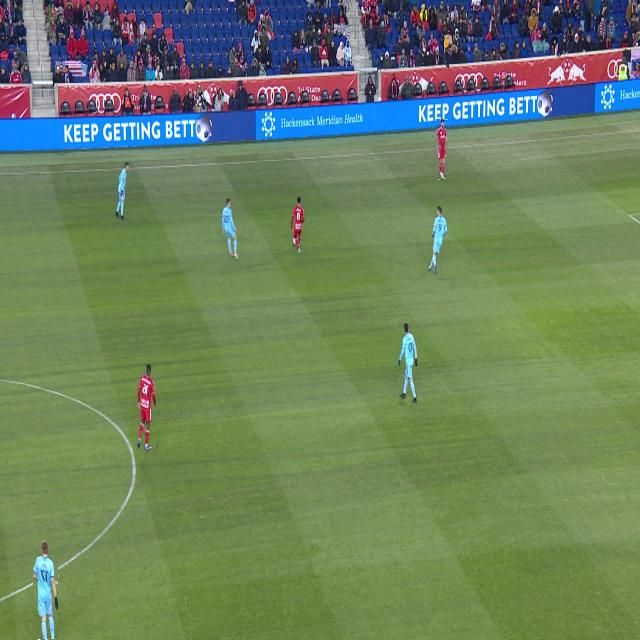football: (298, 237, 303, 245)
player: (34, 541, 58, 640), (138, 364, 156, 450), (399, 323, 417, 403), (429, 206, 447, 275), (222, 198, 239, 259), (115, 162, 129, 220), (291, 196, 305, 253), (436, 120, 448, 179)
